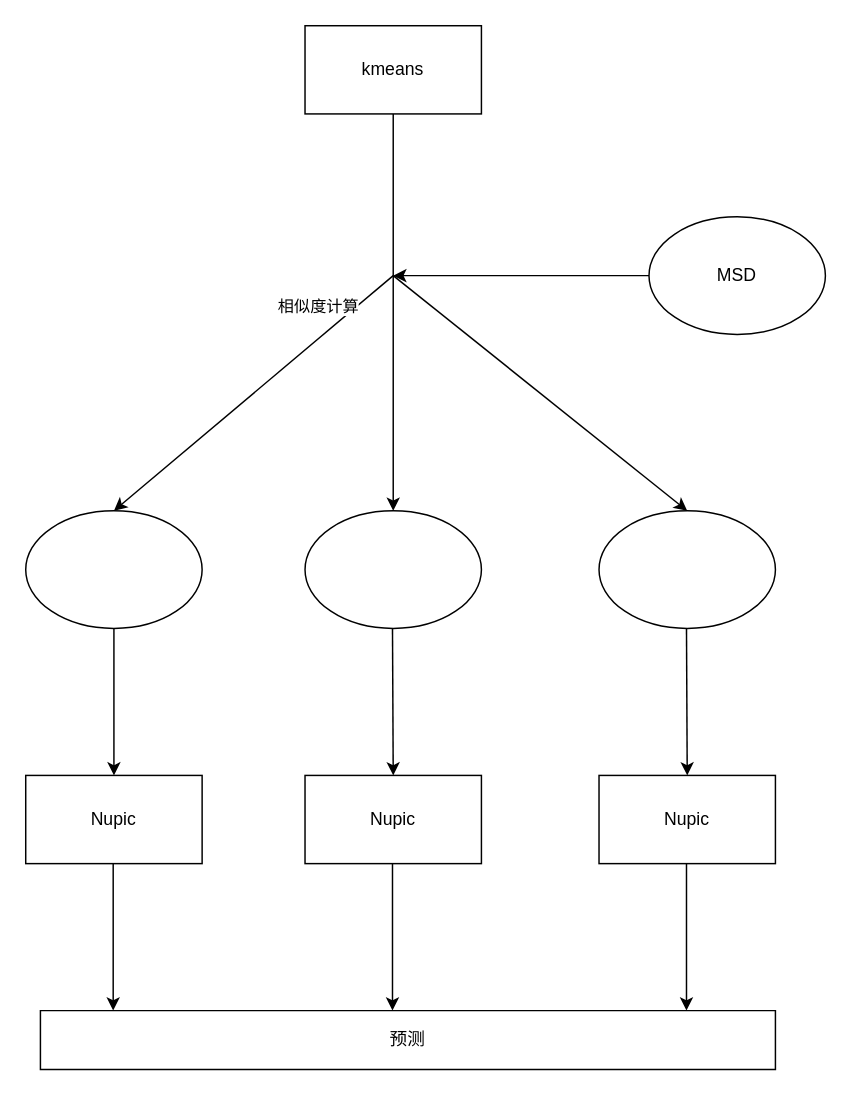
The diagram is 851 pixels wide and 1095 high, and some of its shapes have lost their labels. The box of each missing label's shape, as (x1, y1, x2, y2) in pixels:
cluster1: (24, 509, 202, 628)
cluster2: (304, 509, 481, 628)
cluster3: (598, 509, 775, 628)
